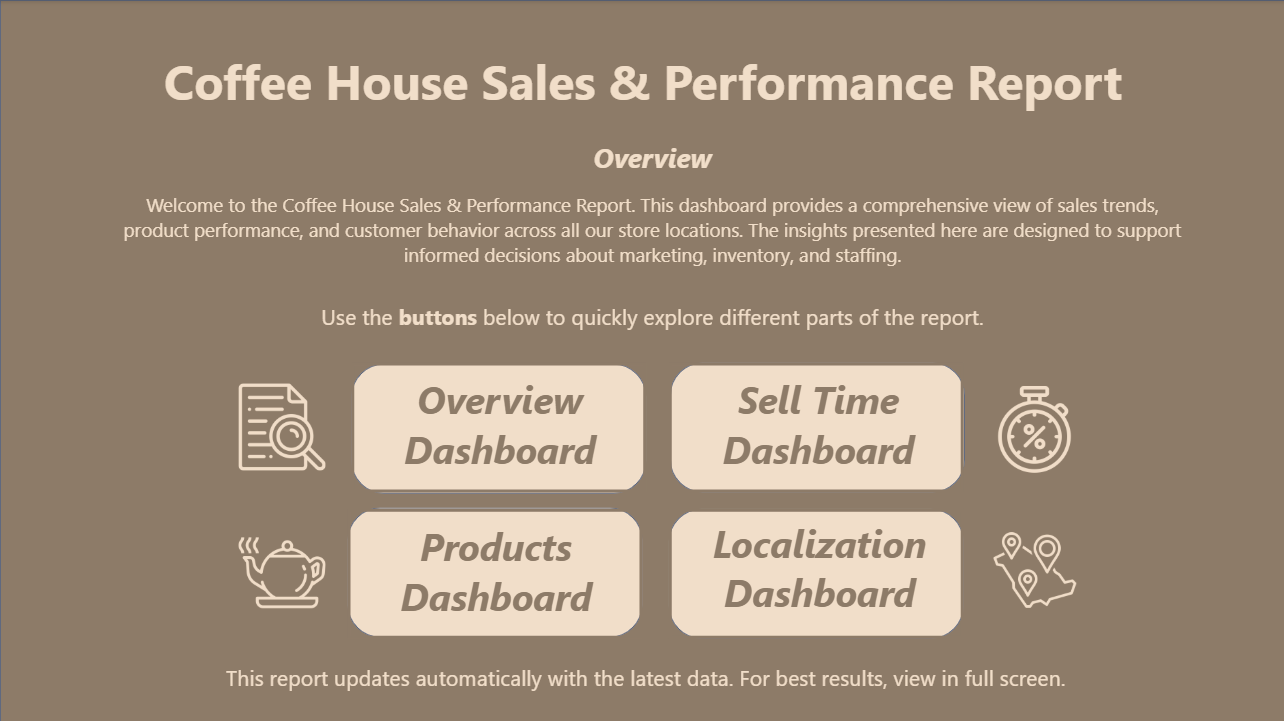

Layout of this report page (visuals, bound fields, positions):
{"tool":"powerbi","page":{"name":"Landing Page","canvas":[1280,720],"ordinal":0},"visuals":[{"type":"shape","box":[0,0,1280,720.3],"z":0},{"type":"textbox","box":[0,42.3,1280,90.8],"z":1000},{"type":"textbox","box":[114.4,133.1,1069.8,202.8],"z":2000},{"type":"textbox","box":[100.2,653.9,1083.8,45.9],"z":3000},{"type":"shape","box":[349.2,361.7,293.6,129.4],"z":7000},{"type":"shape","box":[666.4,360.3,293.6,129.4],"z":8000},{"type":"shape","box":[346.4,505,293.6,129.4],"z":9000},{"type":"shape","box":[665.5,506.3,293.6,129.4],"z":10000},{"type":"textbox","box":[370.1,367.3,253.2,118.3],"z":11000},{"type":"textbox","box":[367.3,513.4,253.2,128],"z":12000},{"type":"textbox","box":[688.7,367.3,250.4,118.3],"z":13000},{"type":"textbox","box":[690.1,510.1,250.4,118.3],"z":14000},{"type":"image","box":[232.3,377,96,96],"z":15000},{"type":"image","box":[232.3,524.5,96,105.7],"z":16000},{"type":"image","box":[980.9,521.7,96,91.8],"z":17000},{"type":"image","box":[980.9,377,96,101.6],"z":18000},{"type":"actionButton","box":[349.2,360.3,293.6,129.4],"z":18125},{"type":"actionButton","box":[665,360.3,293.6,129.4],"z":18250},{"type":"actionButton","box":[346.4,506.4,293.6,129.4],"z":18500},{"type":"actionButton","box":[665.5,506.3,293.6,129.4],"z":19000}]}

Visuals, with their boxes in screenshot pixels (x1, y1, x2, y2), scaled from the page's 1280x720 canvas onto the 1284x721 screenshot:
shape: {"left": 0, "top": 0, "right": 1283, "bottom": 720}
textbox: {"left": 0, "top": 42, "right": 1283, "bottom": 133}
textbox: {"left": 115, "top": 133, "right": 1188, "bottom": 336}
textbox: {"left": 101, "top": 655, "right": 1188, "bottom": 701}
shape: {"left": 350, "top": 362, "right": 645, "bottom": 492}
shape: {"left": 668, "top": 361, "right": 963, "bottom": 490}
shape: {"left": 347, "top": 506, "right": 642, "bottom": 635}
shape: {"left": 668, "top": 507, "right": 962, "bottom": 637}
textbox: {"left": 371, "top": 368, "right": 625, "bottom": 486}
textbox: {"left": 368, "top": 514, "right": 622, "bottom": 642}
textbox: {"left": 691, "top": 368, "right": 942, "bottom": 486}
textbox: {"left": 692, "top": 511, "right": 943, "bottom": 629}
image: {"left": 233, "top": 378, "right": 329, "bottom": 474}
image: {"left": 233, "top": 525, "right": 329, "bottom": 631}
image: {"left": 984, "top": 522, "right": 1080, "bottom": 614}
image: {"left": 984, "top": 378, "right": 1080, "bottom": 479}
actionButton: {"left": 350, "top": 361, "right": 645, "bottom": 490}
actionButton: {"left": 667, "top": 361, "right": 962, "bottom": 490}
actionButton: {"left": 347, "top": 507, "right": 642, "bottom": 637}
actionButton: {"left": 668, "top": 507, "right": 962, "bottom": 637}
